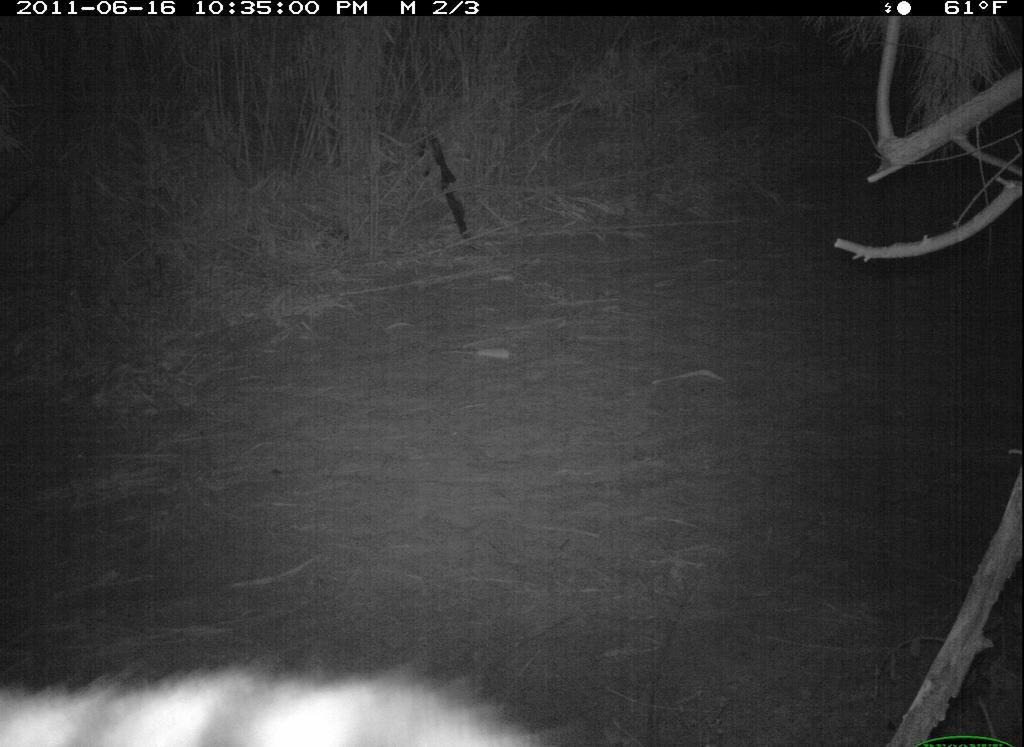raccoon: (6, 643, 536, 747)
